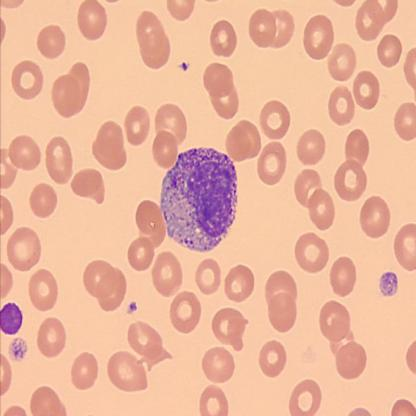Metamyelocyte: (159, 145, 240, 257)
